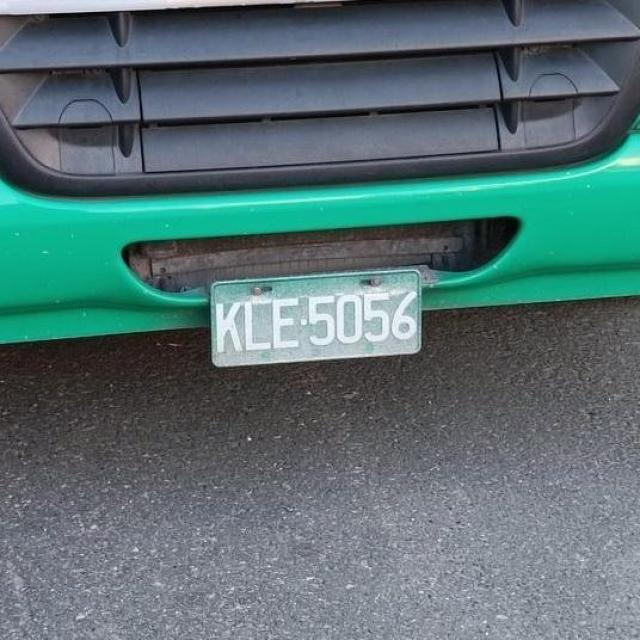GW: (193, 247, 442, 392)
